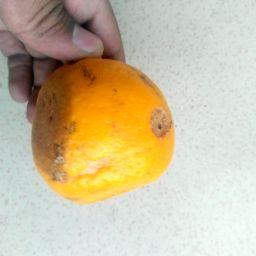Unripe: (31, 58, 175, 203)
